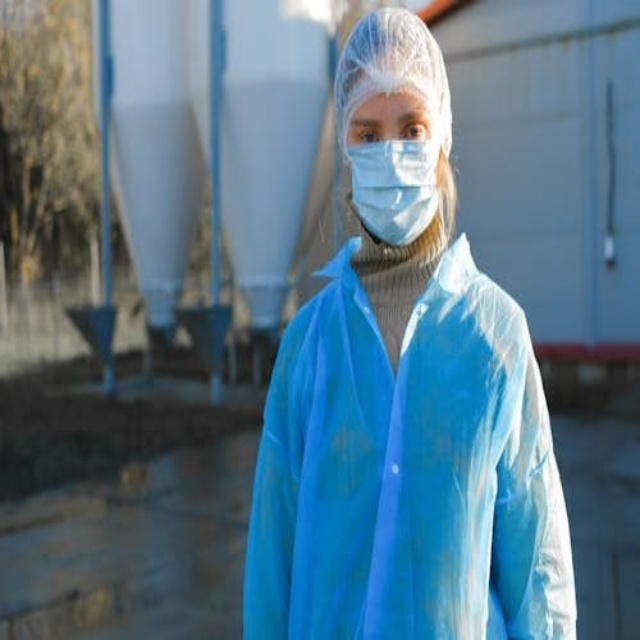Mascara: (347, 135, 442, 245)
Sin_gafas: (405, 124, 425, 140), (358, 130, 378, 144)
